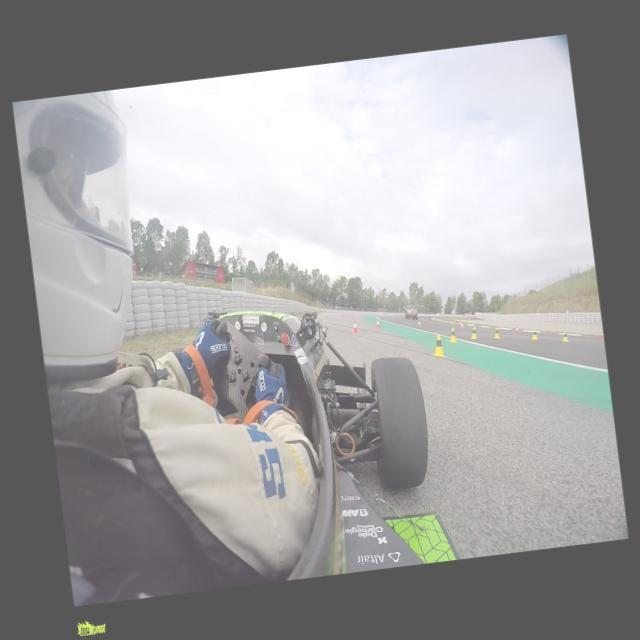orange_cone: (350, 321, 358, 334), (374, 320, 380, 328), (416, 319, 421, 327), (459, 322, 464, 330), (600, 329, 604, 339), (514, 326, 518, 334)
yellow_cone: (430, 333, 446, 358), (448, 327, 458, 342), (468, 326, 478, 340), (492, 326, 501, 339), (560, 330, 569, 342), (530, 328, 538, 340)
